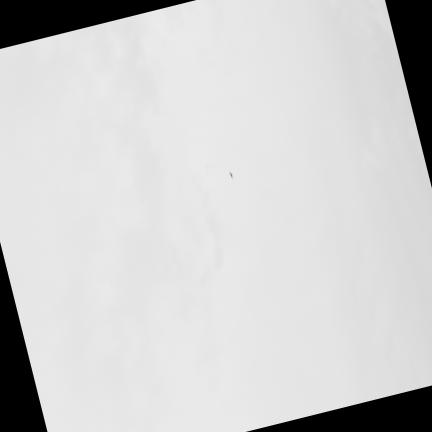Shahed: (228, 170, 232, 177)
